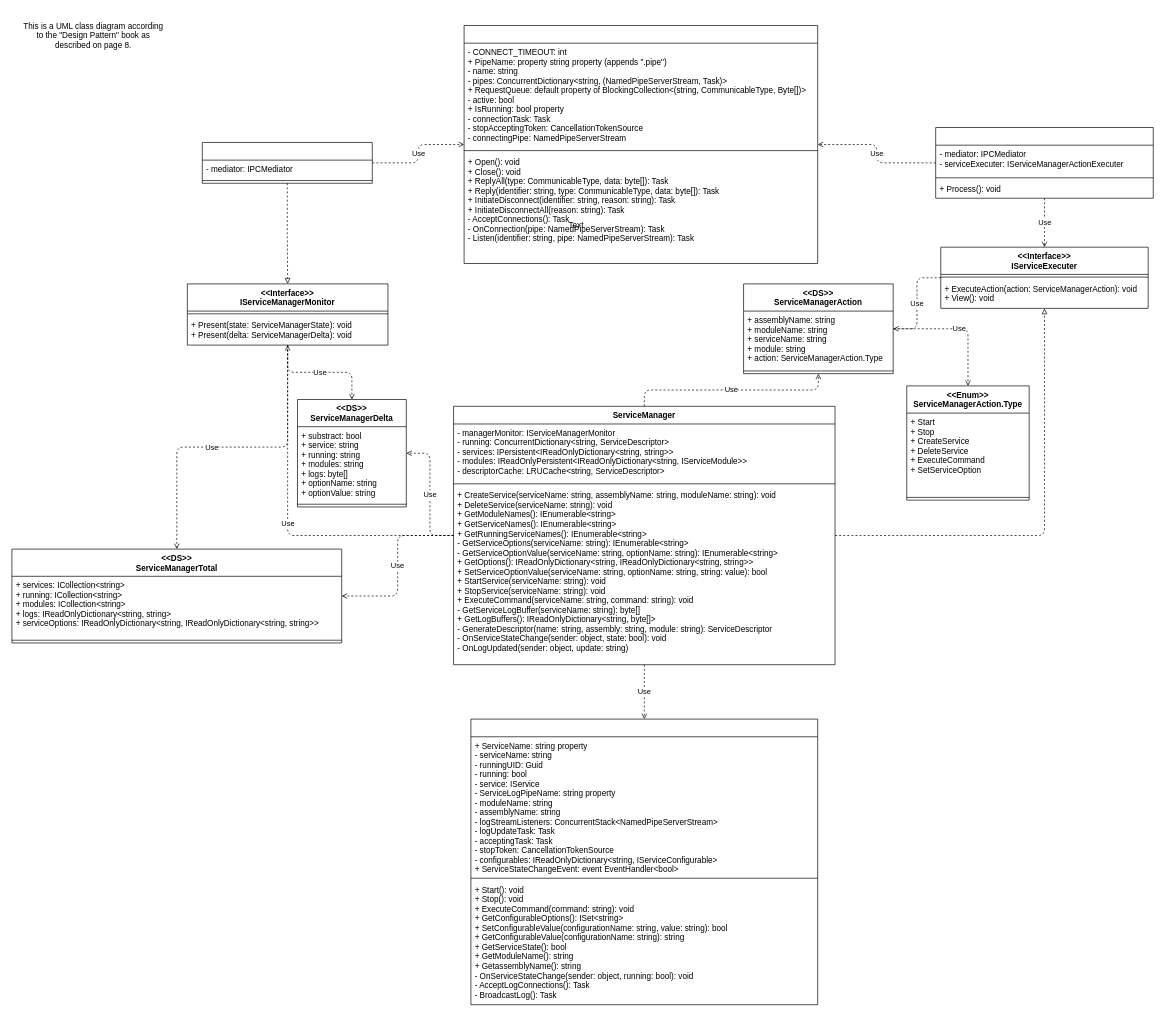
The diagram is 1166 pixels wide and 1018 high, and some of its shapes have lost their labels. Each missing label, with the box of its shape:
IPCController: (935, 127, 1153, 198)
IPCMediator: (463, 25, 818, 264)
IPCPresenter: (202, 142, 372, 183)
ServiceDescriptor: (470, 718, 818, 1005)
